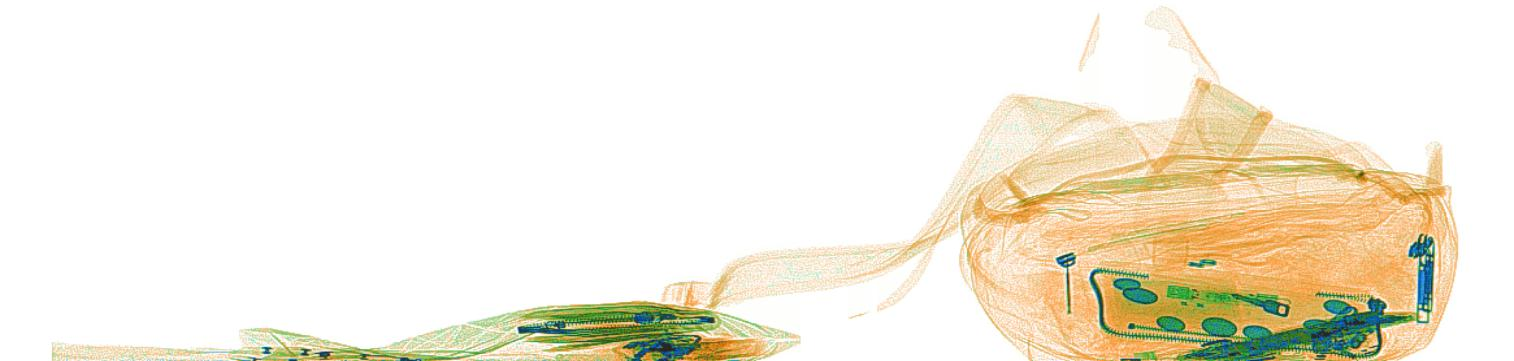USBFlashDisk: (1165, 282, 1240, 307)
